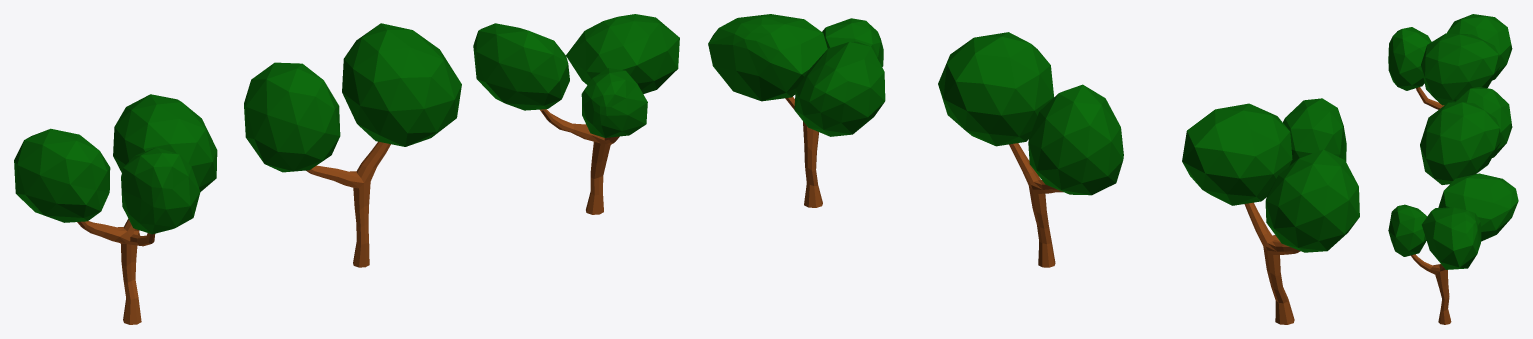
The model's file is Trees.fbx.
3 renders of one model, left to right at view 1: azimuth 30°, elevation 25°; view 2: azimuth 150°, elevation 25°; view 3: azimuth 270°, elevation 25°, orthographic. The views are drawn at different scales.
Parts seen in each view (by area): view 1: Circle, Circle.002, Circle.001; view 2: Circle.002, Circle, Circle.001; view 3: Circle.001, Circle.002, Circle.
Part boxes in pixels (x1,y1,x2,y2): Circle: [244, 23, 461, 267]; Circle.002: [14, 94, 217, 324]; Circle.001: [473, 14, 679, 214]; Circle.002: [1182, 98, 1359, 324]; Circle: [938, 32, 1123, 267]; Circle.001: [708, 14, 885, 207]; Circle.001: [1388, 173, 1518, 324]; Circle.002: [1388, 14, 1512, 109]; Circle: [1420, 87, 1512, 184].
Size of the model in its own units: 1672 by 547 by 421.
